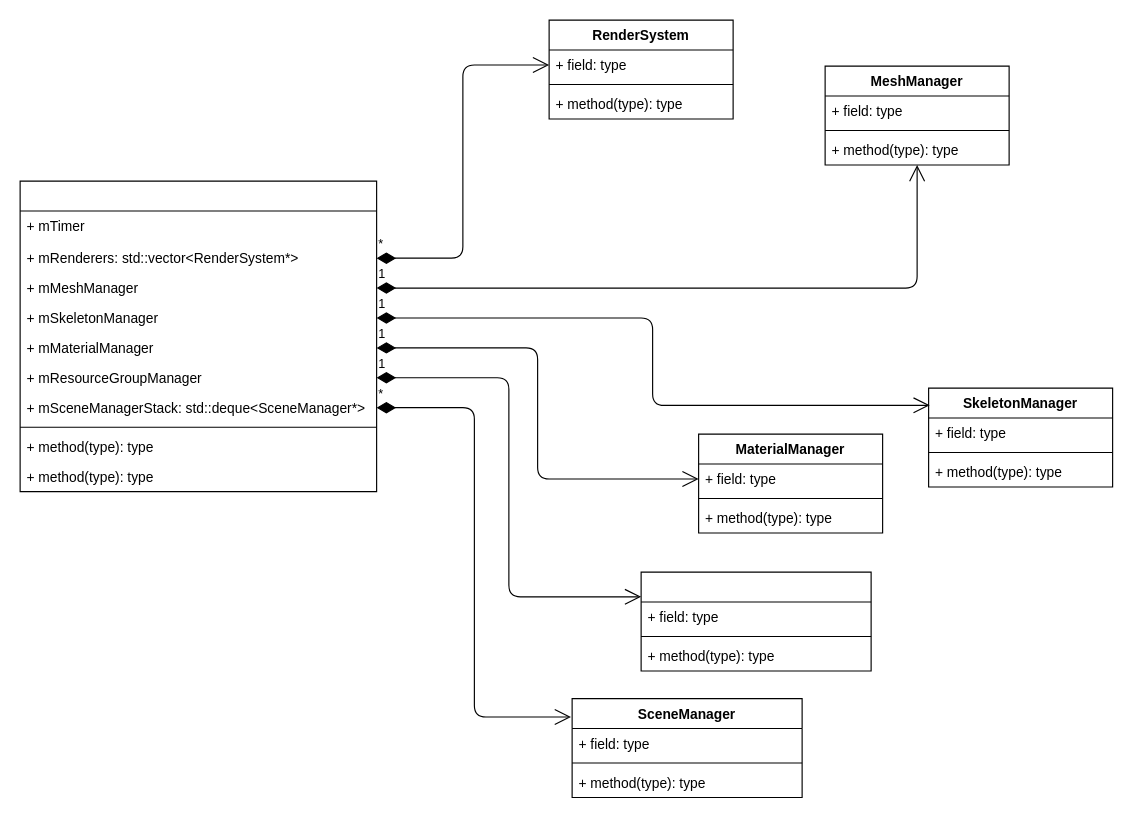
Some shapes in this 1133 by 821 pixel diagram are drawn without their labels. The shapes that lost their labels are listed below. From the top down, each one's box as (x1, y1, x2, y2) in pixels, then its label:
(19, 180, 377, 492): Root
(640, 571, 871, 671): ResourceGroupManager
